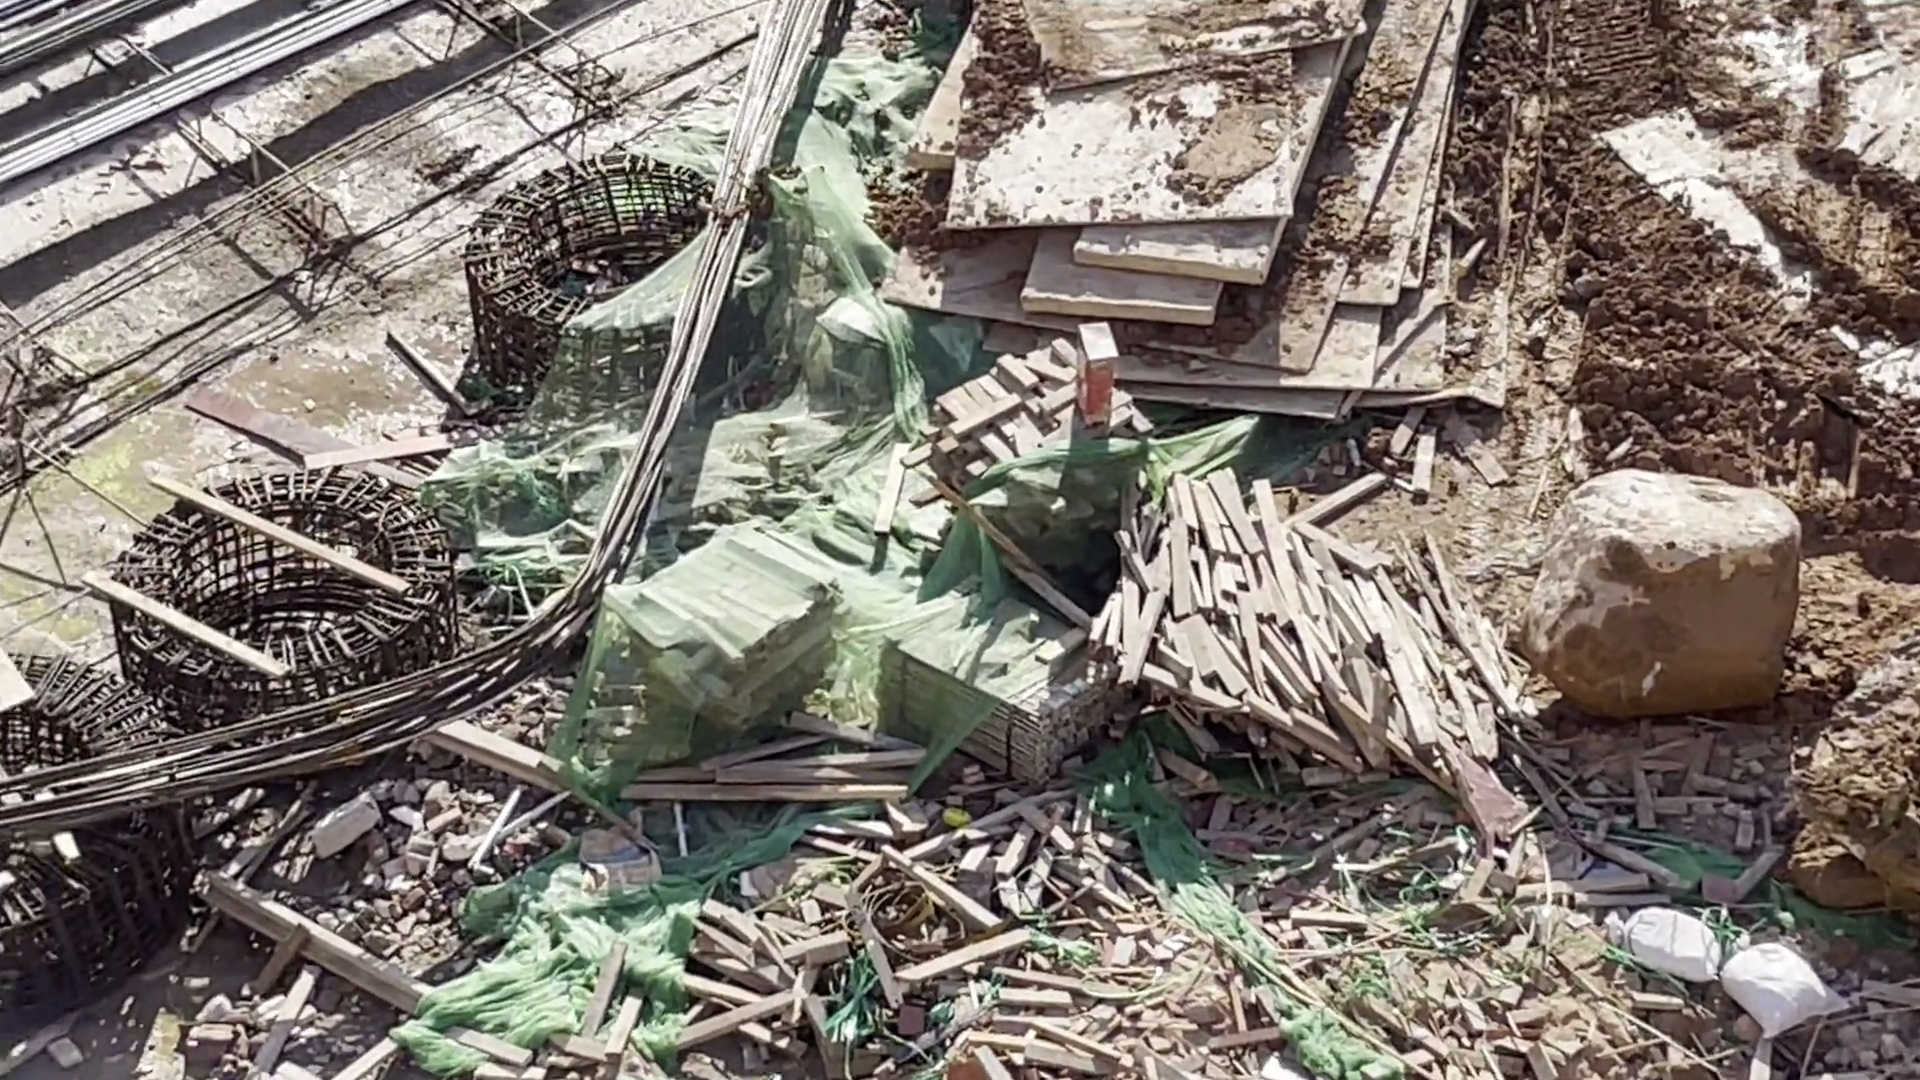board: (945, 1, 1509, 418)
wood: (1137, 487, 1503, 807), (636, 518, 845, 732), (880, 615, 1126, 779)
